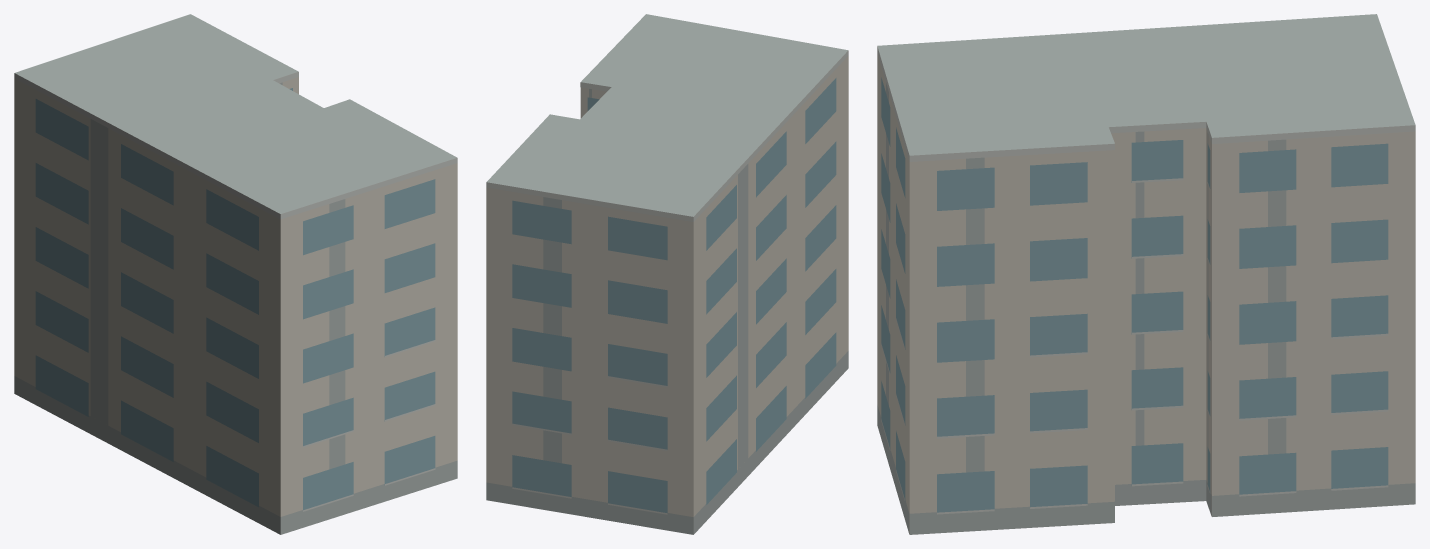
Rendered from survey-upis-32760216.glb.
3 views of the same model, side by side, from view 1: azimuth 30°, elevation 25°; view 2: azimuth 150°, elevation 25°; view 3: azimuth 270°, elevation 25° (orthographic). The views are drawn at different scales.
Visible parts, largest first — view 1: survey-upis-32760216.tmp; view 2: survey-upis-32760216.tmp; view 3: survey-upis-32760216.tmp.
Boxes of the visible parts, <box> form: survey-upis-32760216.tmp: <box>14,14,457,534</box>; survey-upis-32760216.tmp: <box>486,14,848,534</box>; survey-upis-32760216.tmp: <box>877,14,1415,534</box>.
Size of the model in its own units: 11.83 by 14.75 by 18.99.
